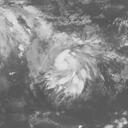cyclone: (43, 36, 100, 92)
